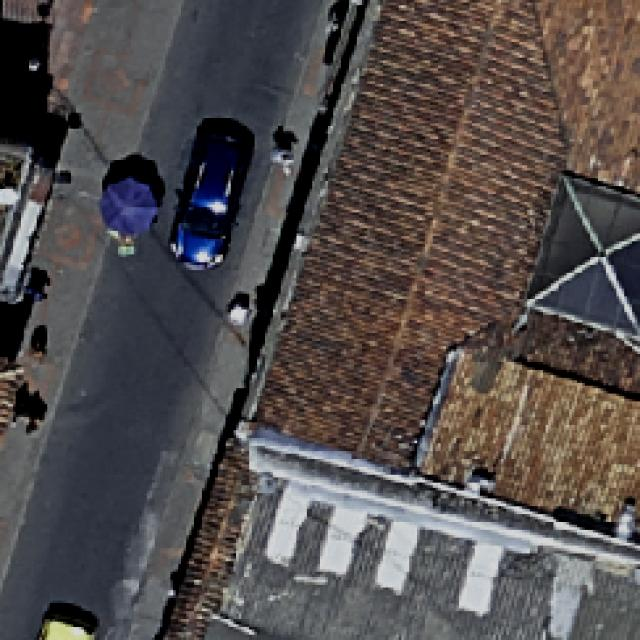vendedor_ambulante: (97, 177, 164, 239)
